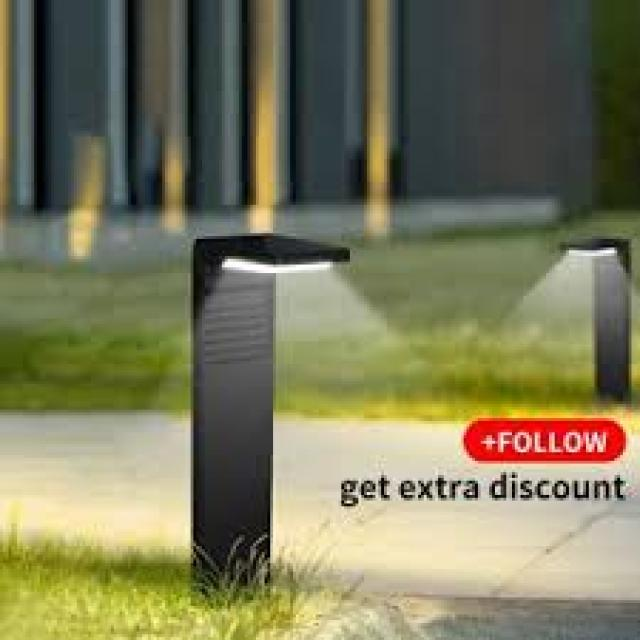bollard: (178, 224, 350, 622), (554, 223, 636, 411)
